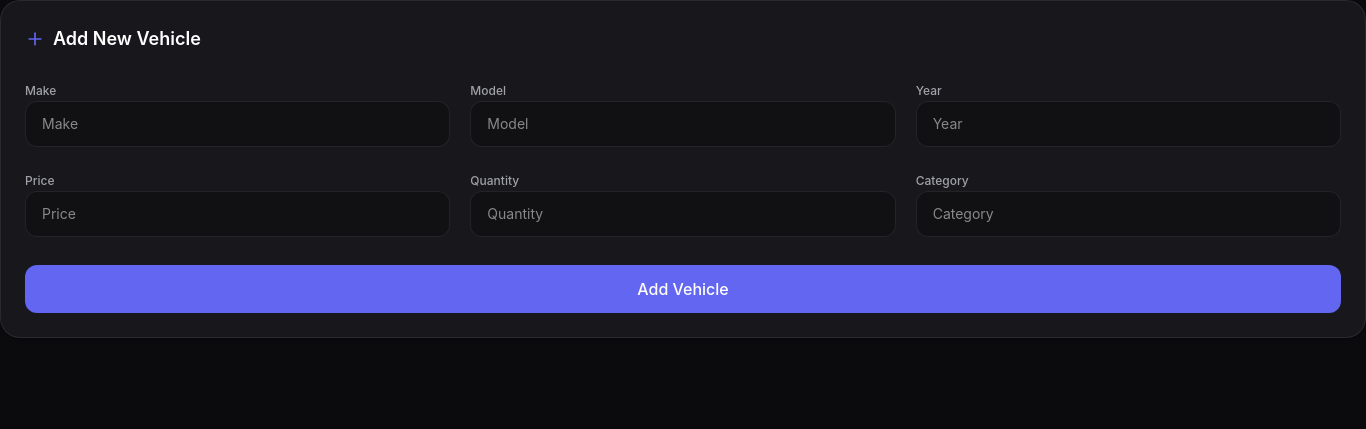
Test: AddVehicleForm Component › displays error message on failed submission
Type "Honda" into the field with placeholder "Make".
click(238, 124); type("Honda")  # box left=25, top=101, right=450, bottom=147
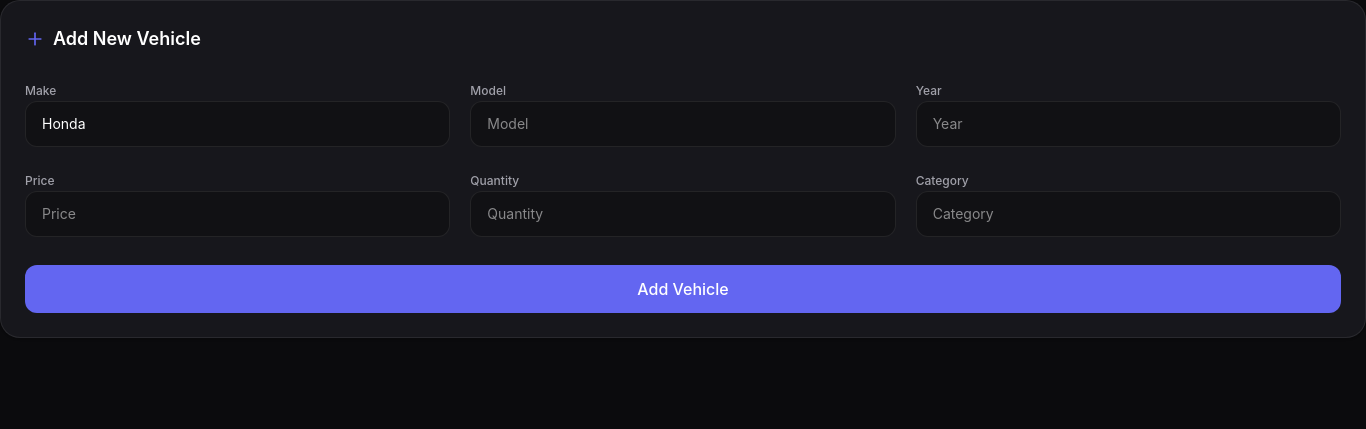
Click the button "Add Vehicle".
click(683, 289)  # box left=25, top=265, right=1341, bottom=313
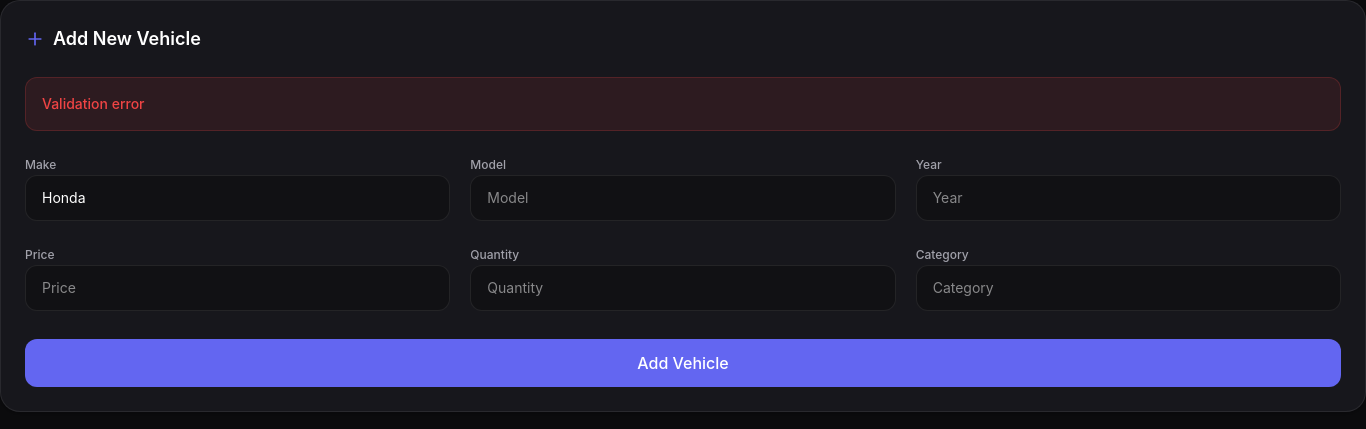
Expected: the text "Validation error" is shown, left=25, top=77, right=1341, bottom=131
